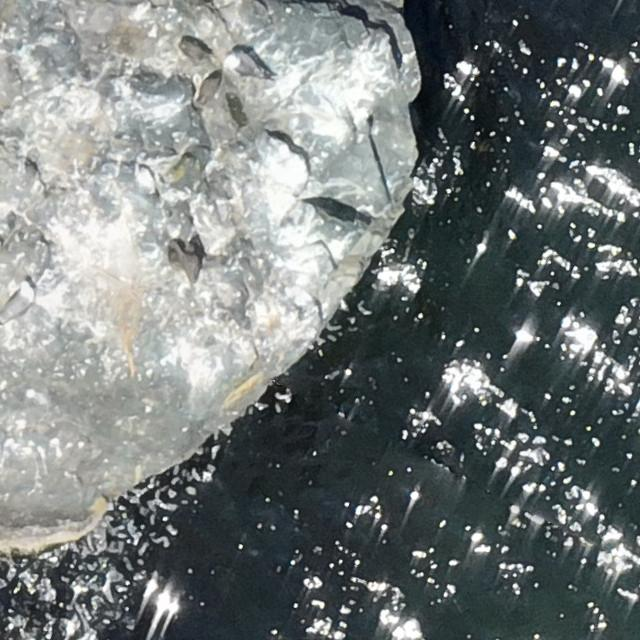umineko: (1, 280, 34, 328), (226, 49, 269, 83)
